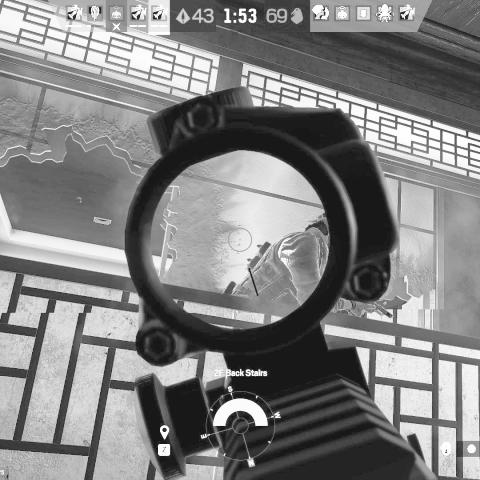Character: (223, 209, 395, 323)
